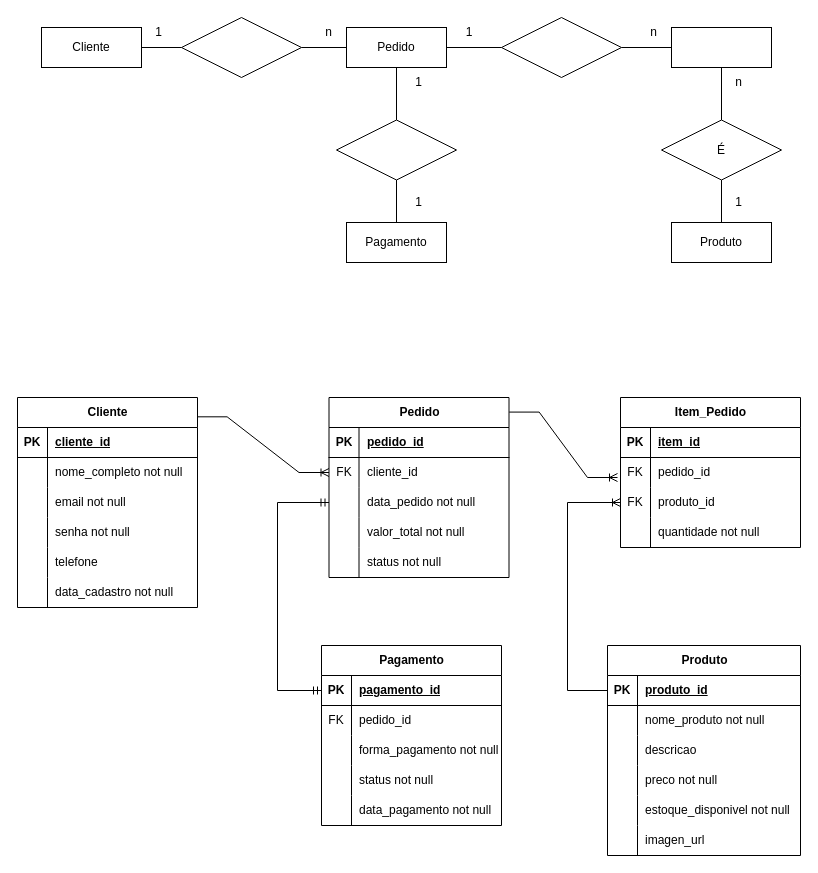
The diagram is 818 pixels wide and 873 high, and some of its shapes have lost their labels. The shapes that lost their labels are listed below. From the top down, each one's centre as x and y in pixels, then its label:
At point (241, 47): "Faz".
At point (561, 47): "Possui".
At point (721, 47): "Item do pedido".
At point (396, 149): "Tem".
